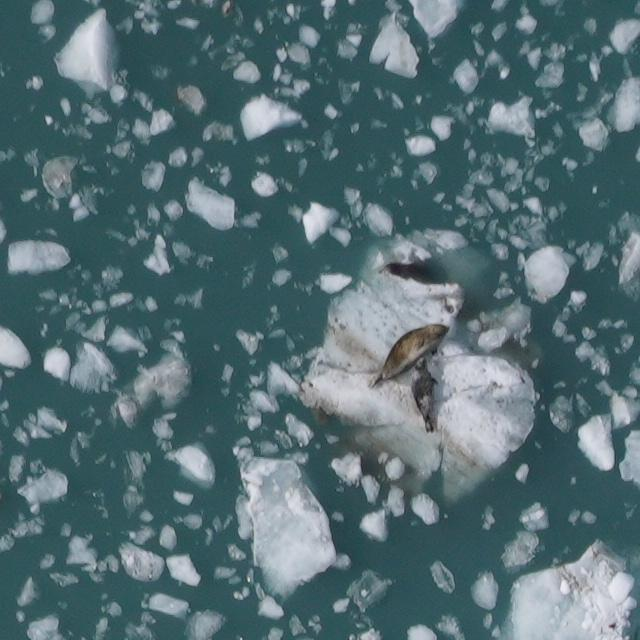seal: (354, 309, 454, 398), (406, 356, 442, 434)
